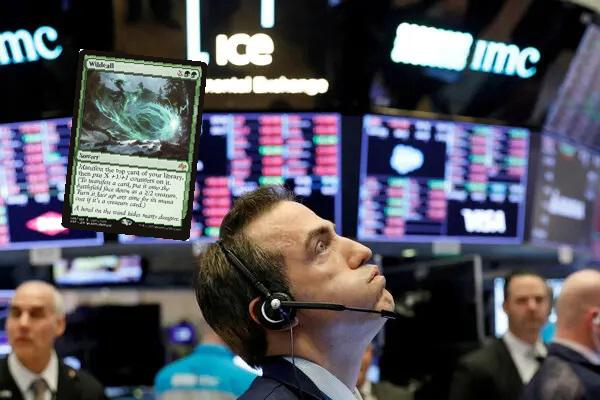mtgCard: (60, 48, 209, 242)
